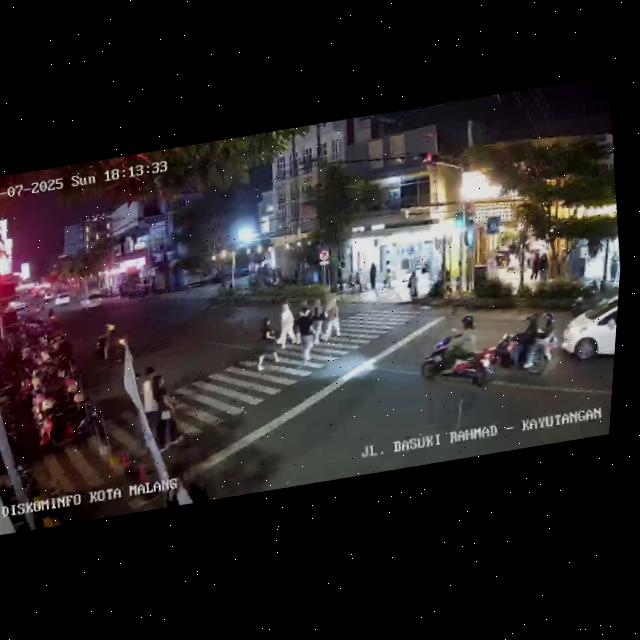car: (549, 298, 618, 380), (76, 291, 105, 314), (49, 290, 72, 309)
motorcycle: (413, 315, 500, 397), (481, 308, 564, 386), (92, 321, 128, 365), (44, 303, 58, 325)
person: (144, 367, 191, 457), (135, 362, 164, 434), (251, 314, 285, 371), (290, 305, 318, 366), (275, 297, 300, 352), (308, 297, 330, 345), (322, 297, 344, 344), (404, 268, 421, 302), (536, 249, 553, 283), (378, 257, 395, 290), (525, 250, 541, 284), (364, 260, 380, 291), (605, 255, 620, 284)
